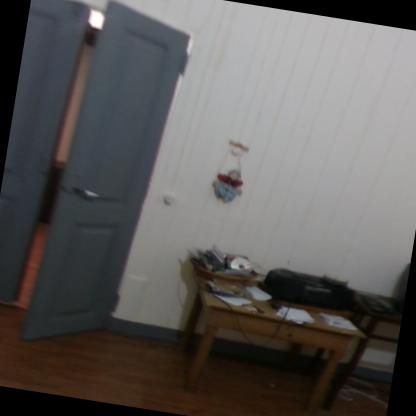semi: (0, 0, 208, 347)
